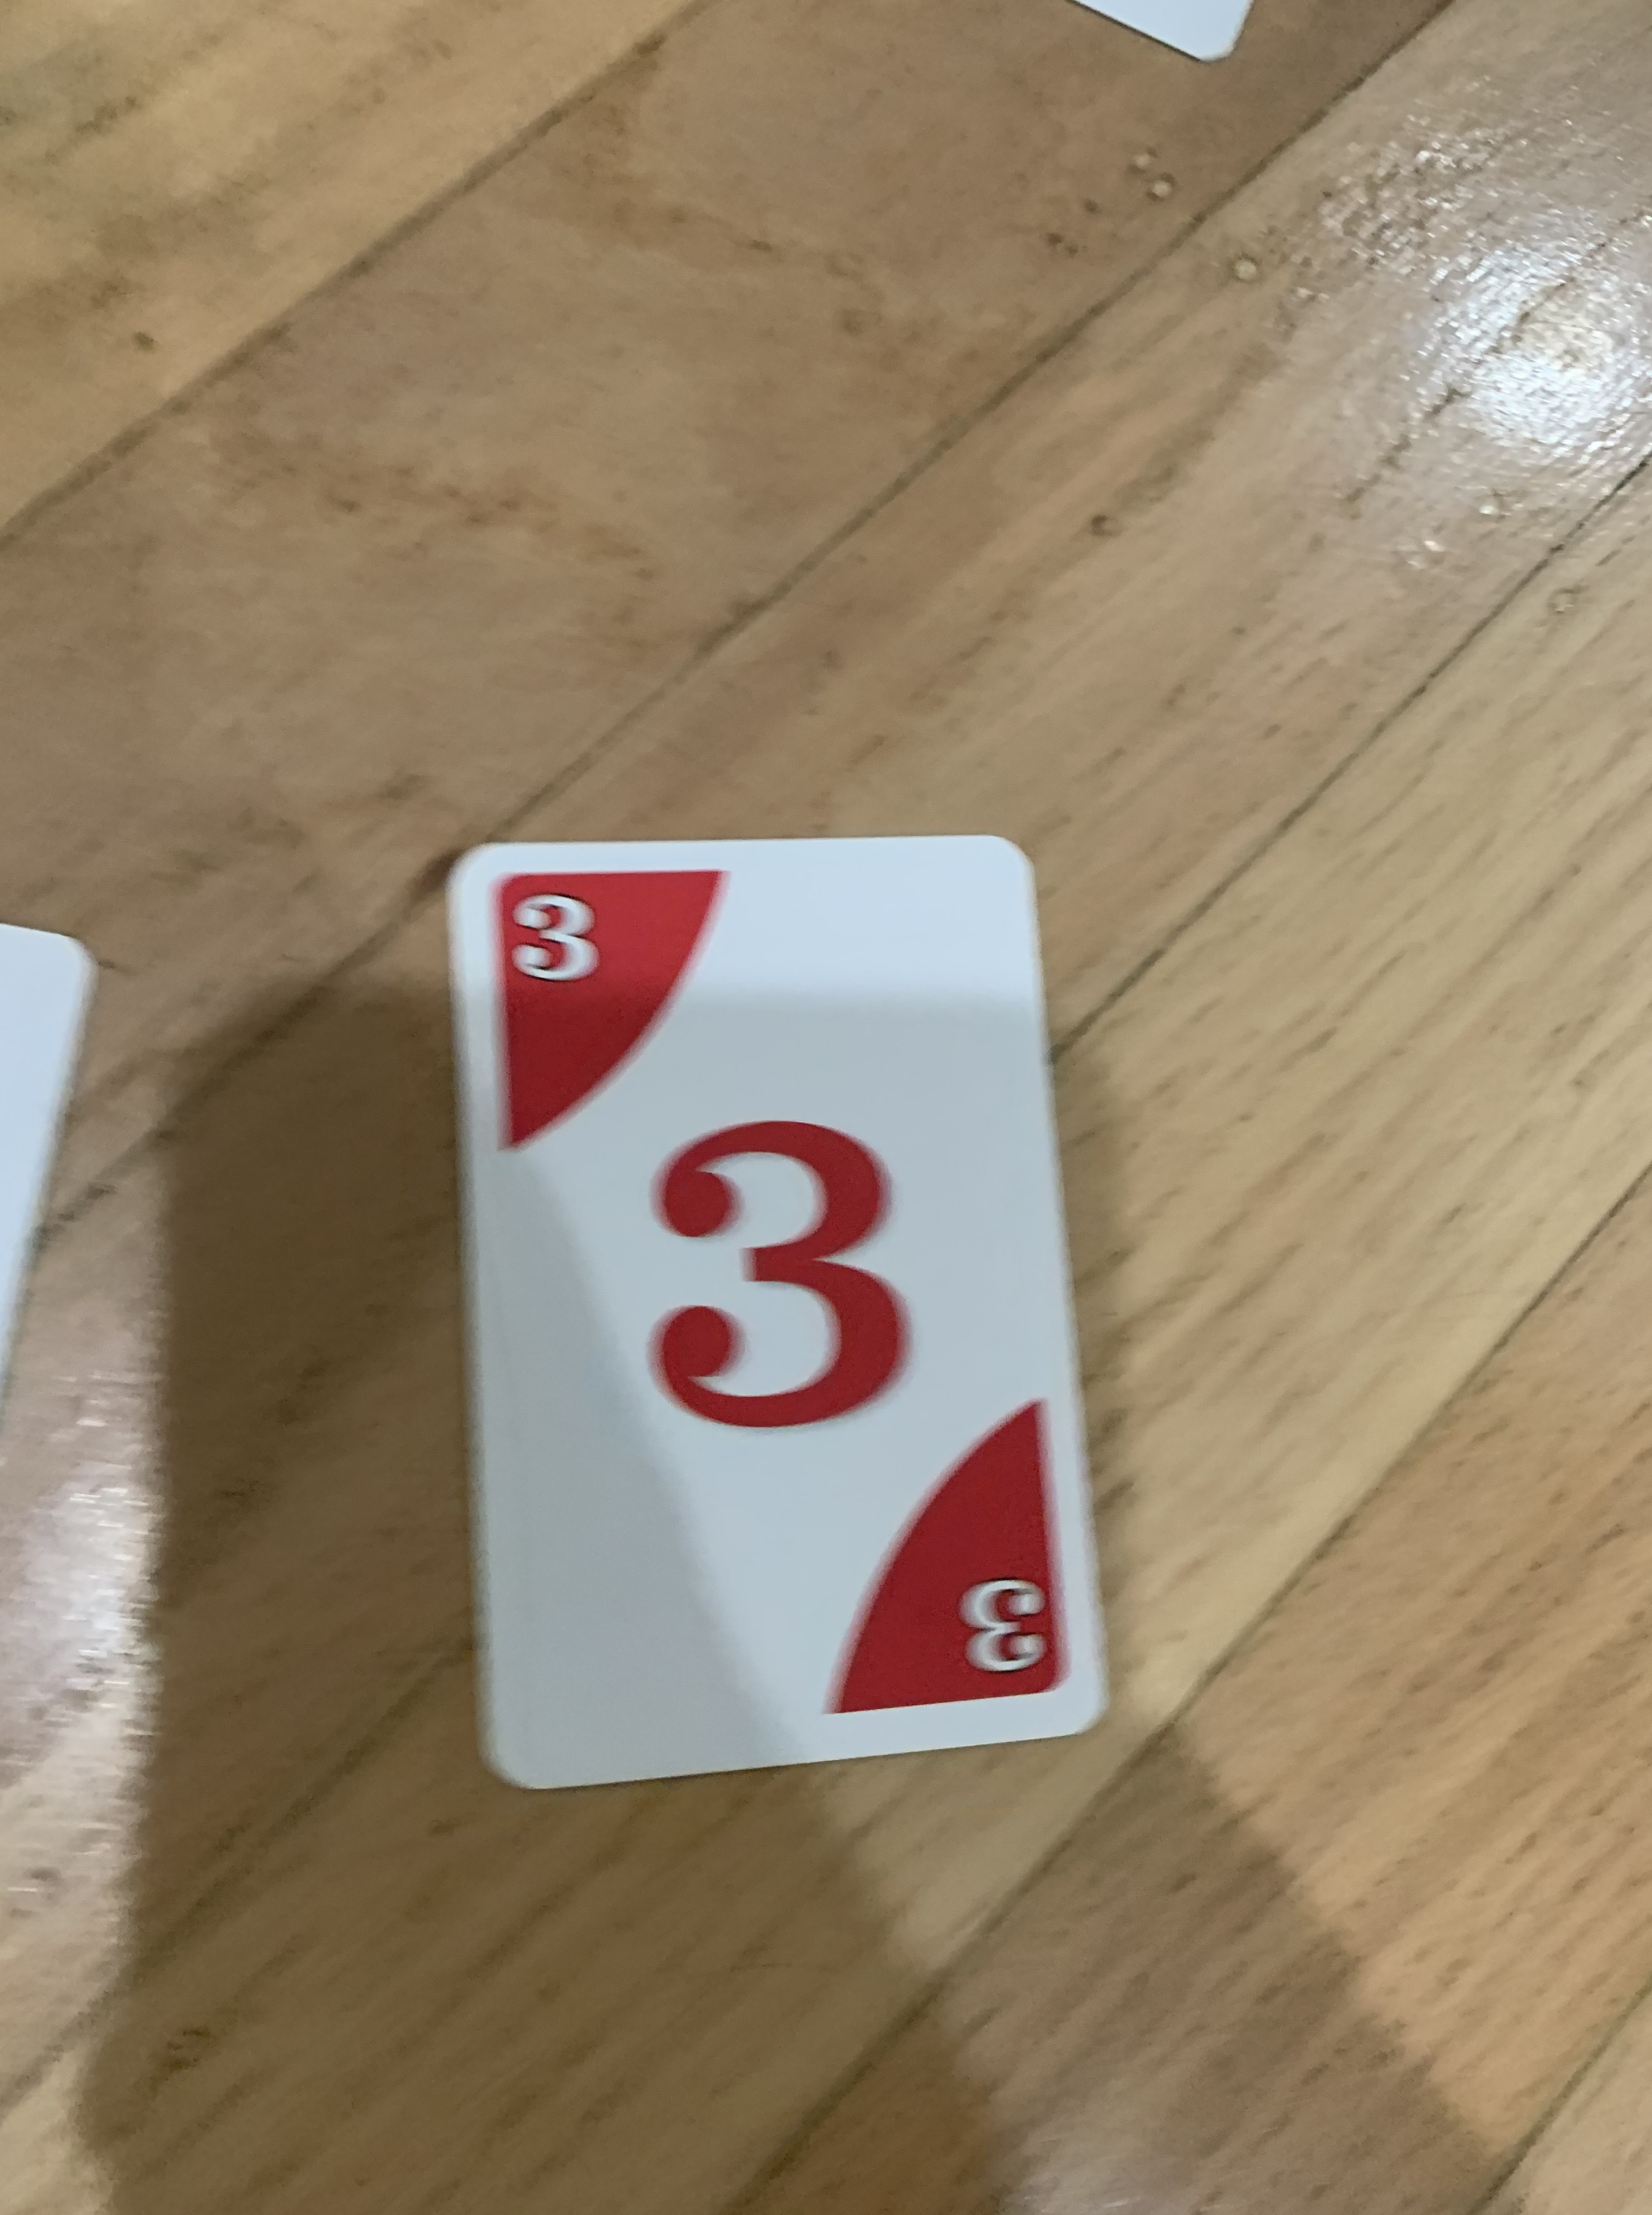three: (449, 821, 1118, 1797)
